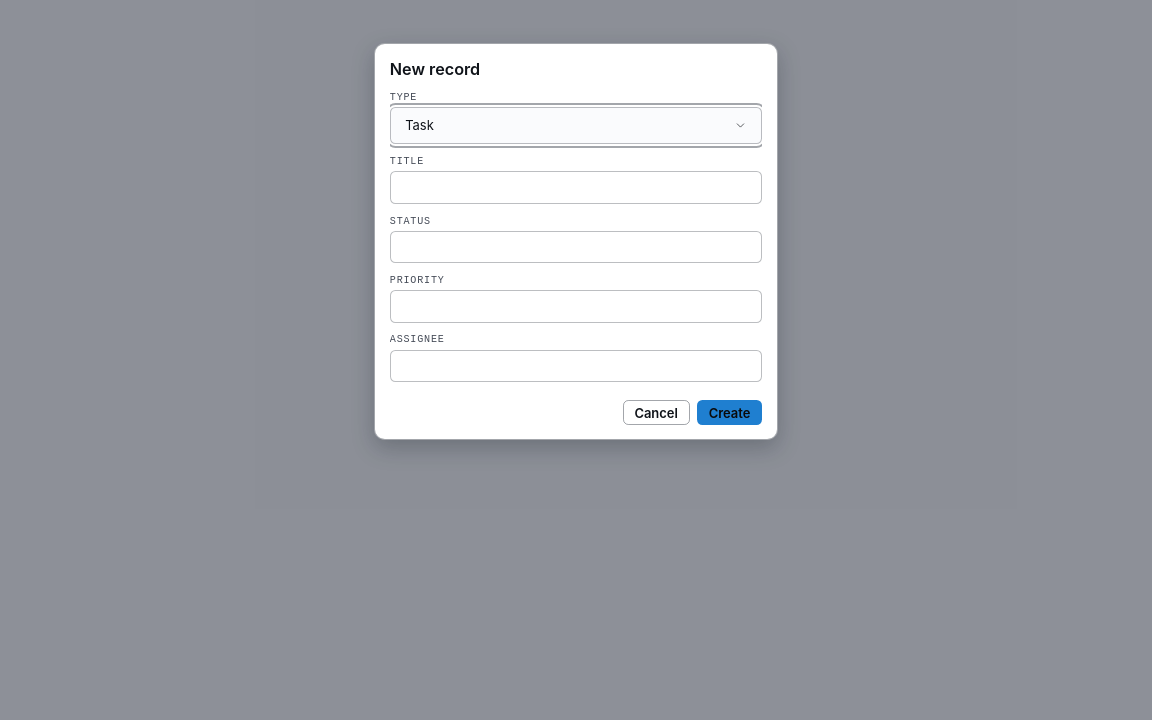
it: TrackerRecordDialog — "<type-id>:" title prefix picks the type (v7 decision F3-1; issue #673) › matches case-insensitively
Type "EPIC: consolidate the onboarding flow" into the field with test id "tracker-record-title" at (576, 188), box [390,171,762,204]
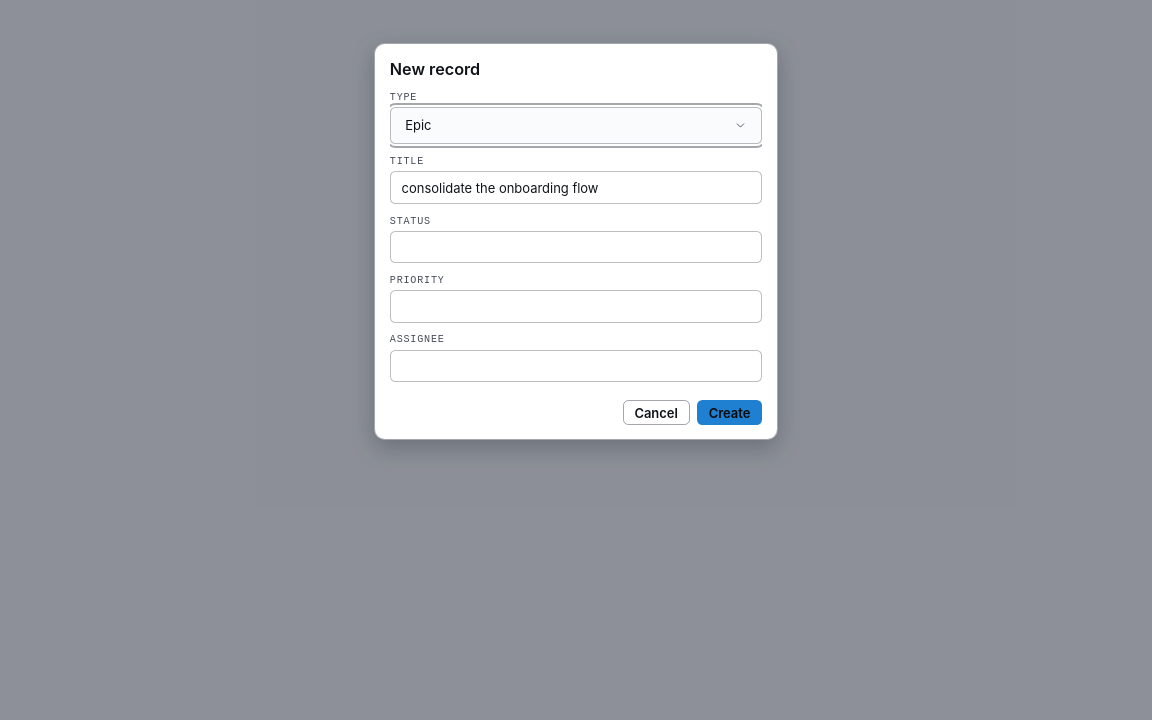
Check: the dropdown with test id "tracker-record-type-trigger" reads "Epic", box [390,107,762,144]
Check: the field with test id "tracker-record-title" holds "consolidate the onboarding flow", box [390,171,762,204]
